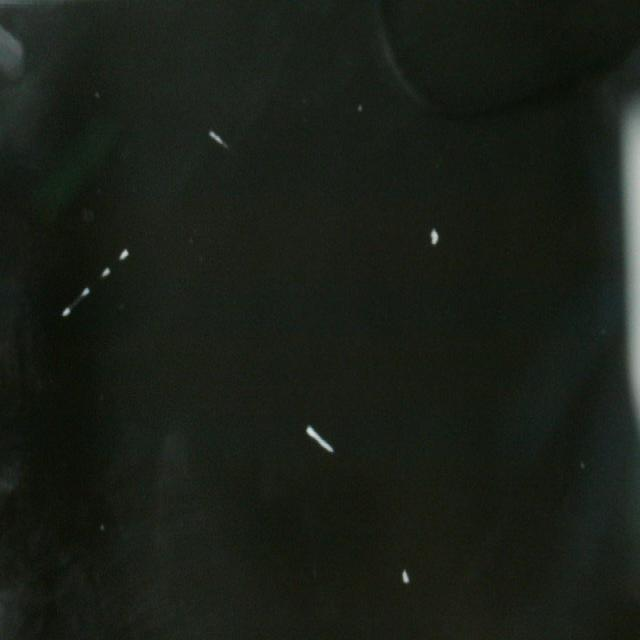scratch: (59, 235, 135, 322), (301, 420, 339, 465), (205, 117, 236, 163)
very small scratch: (425, 218, 444, 252), (398, 565, 412, 592)
